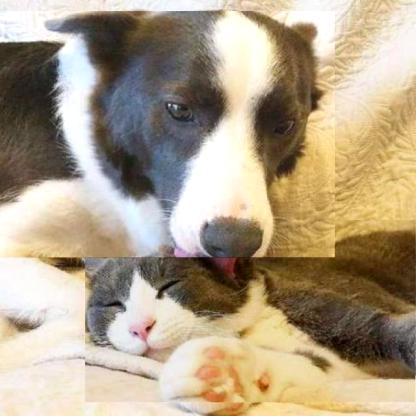cat: (85, 220, 415, 402)
dog: (0, 11, 335, 257)
